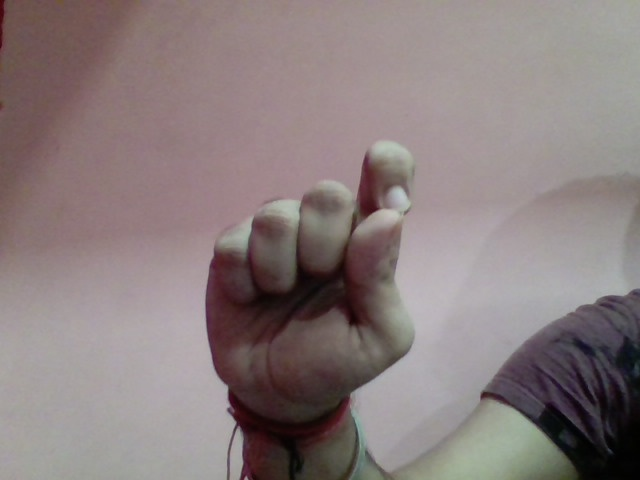t: (194, 130, 427, 416)
